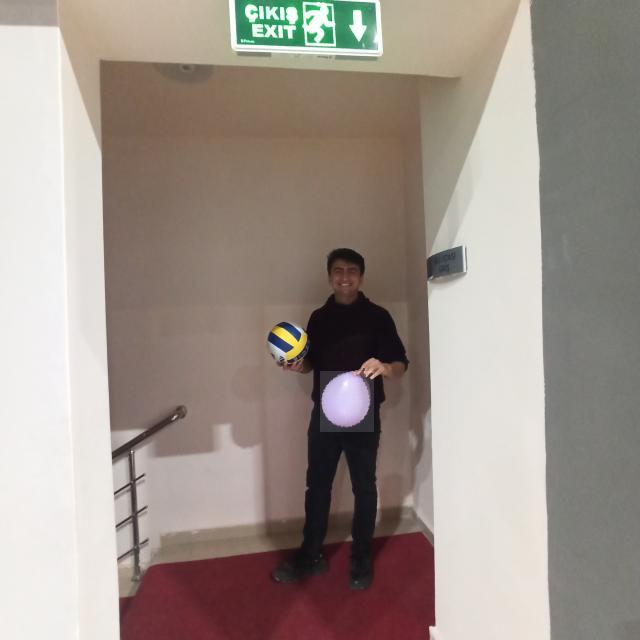balloon: (320, 371, 374, 432)
